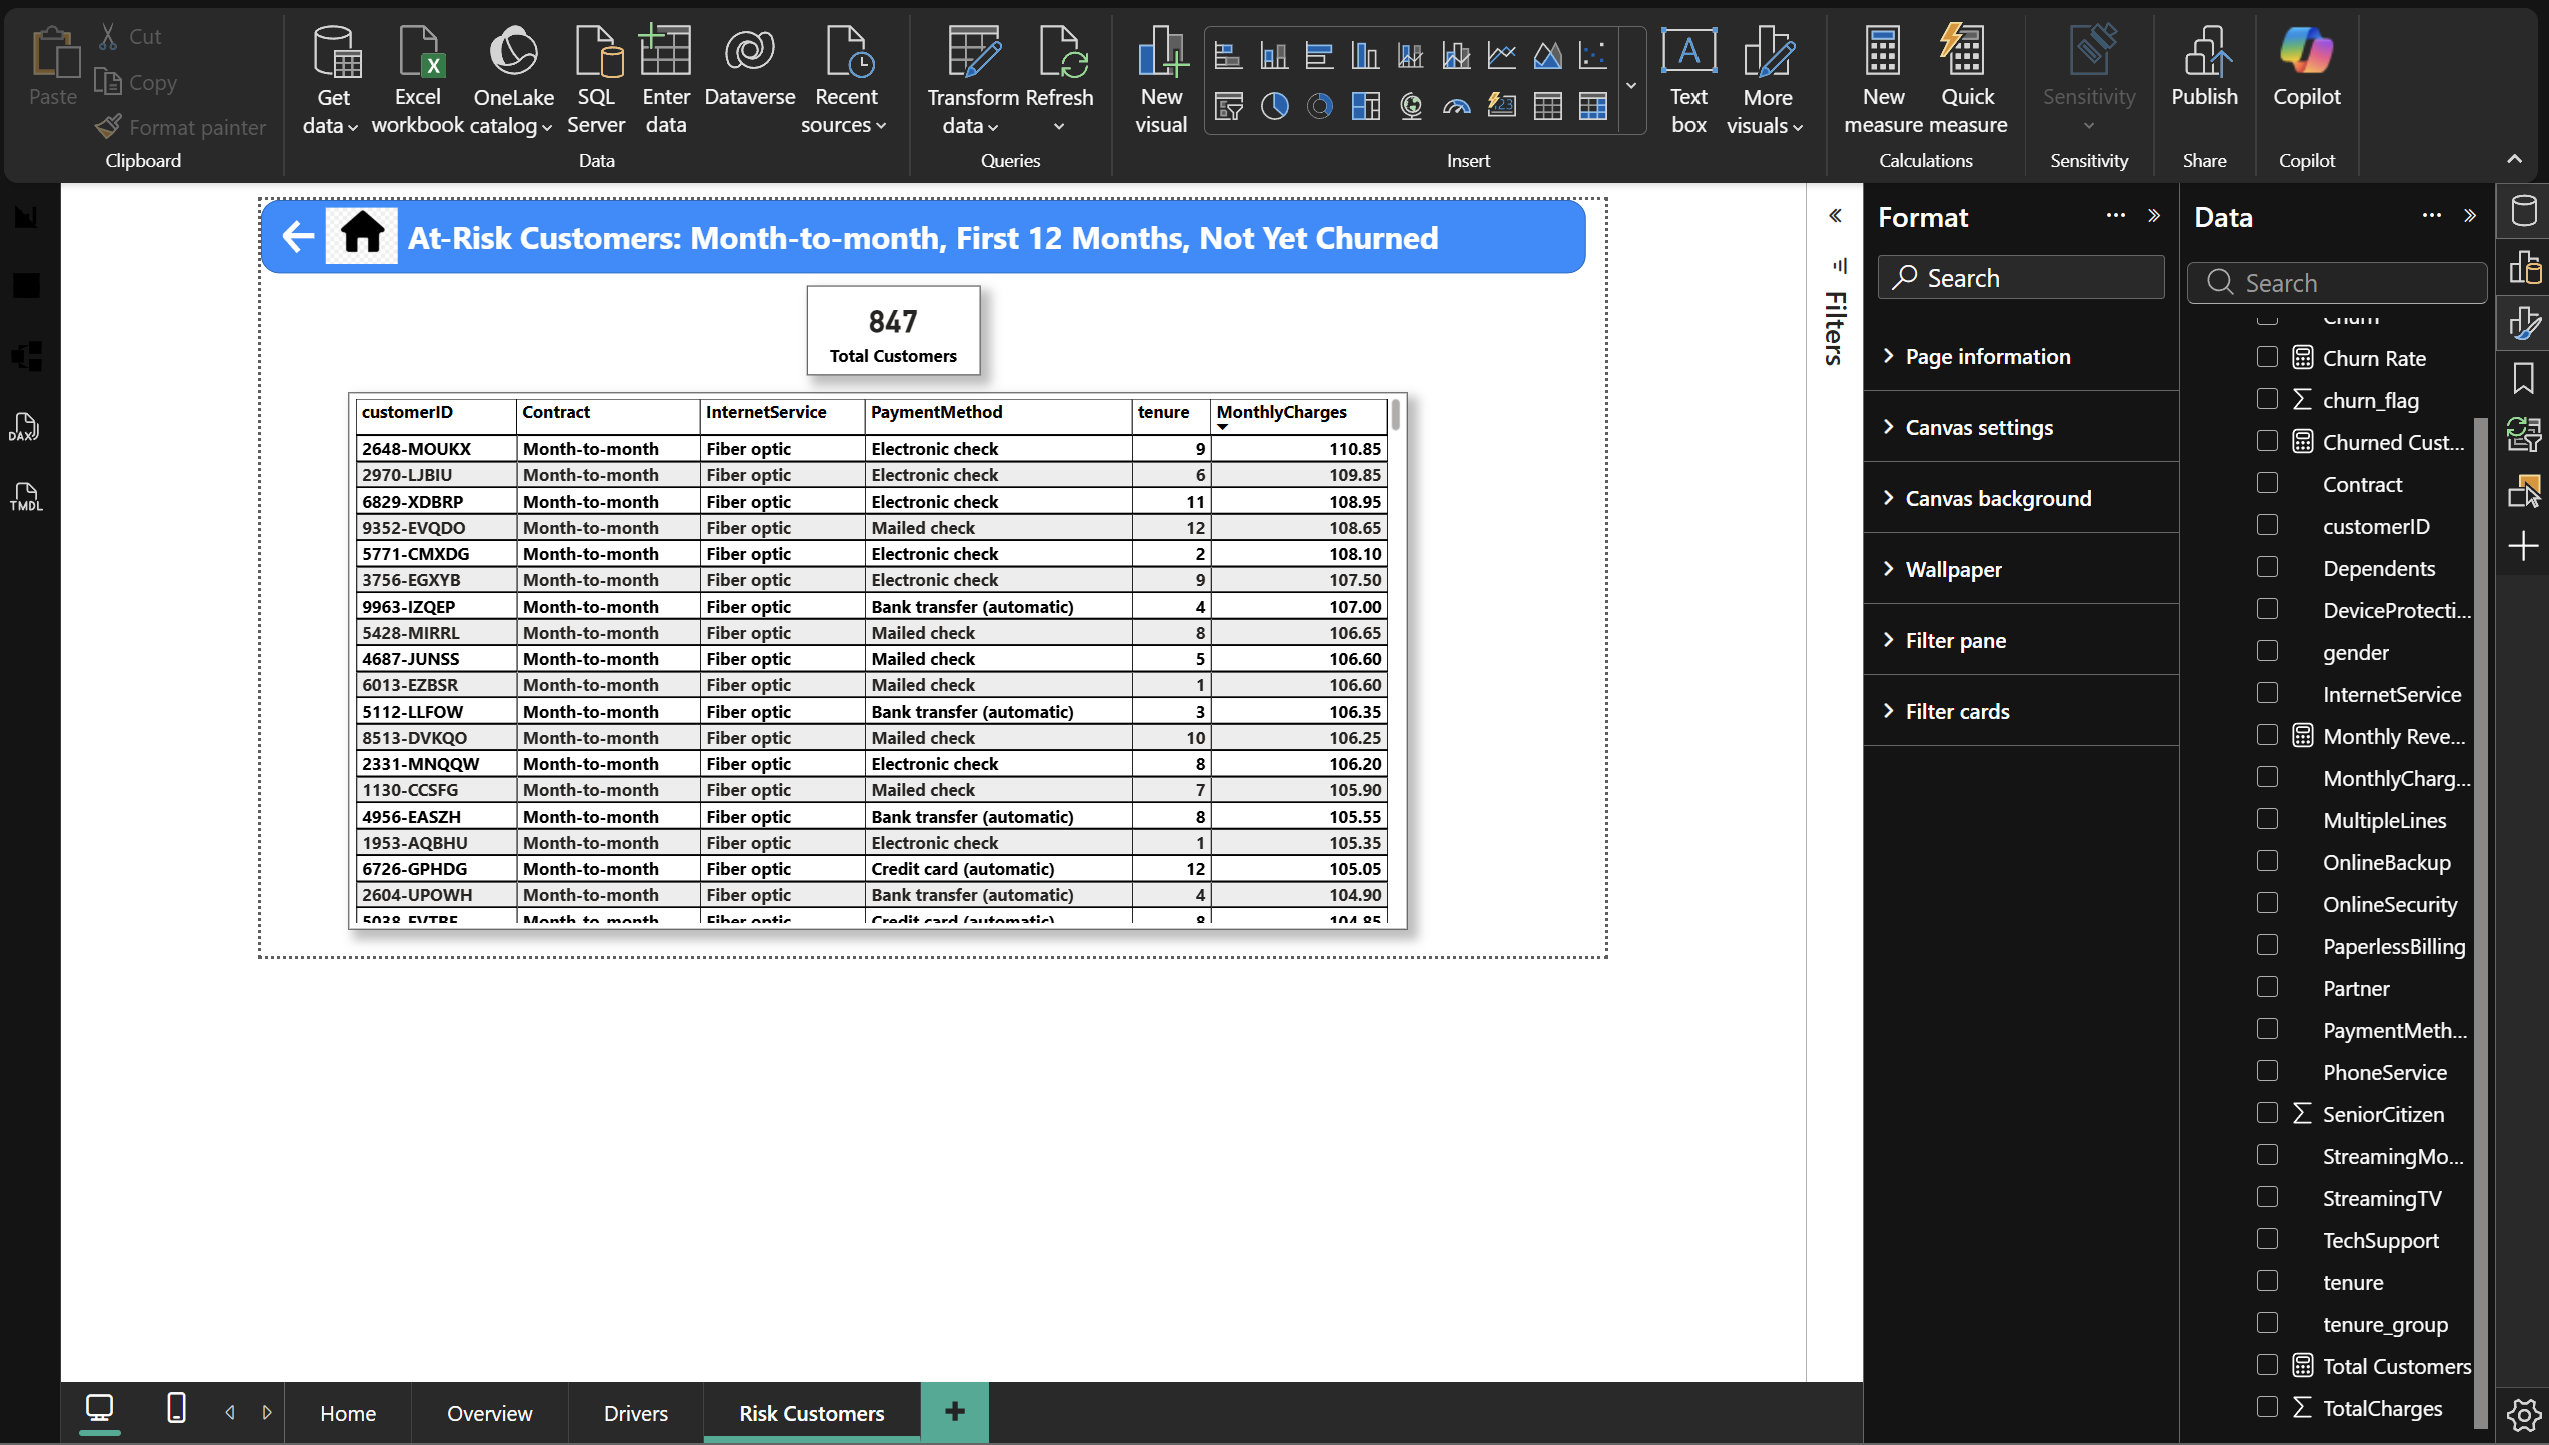

What the dashboard file says about the page in this screenshot:
{"tool":"powerbi","page":{"name":"Risk Customers","canvas":[1280,720],"ordinal":3},"visuals":[{"type":"tableEx","fields":{"Values":["customers_clean.customerID","customers_clean.Contract","customers_clean.InternetService","customers_clean.PaymentMethod","customers_clean.tenure","customers_clean.MonthlyCharges"]},"box":[83.3,183.3,1008.3,511.7],"z":0},{"type":"card","fields":{"Values":["customers_clean.Total Customers"]},"box":[520,81.7,165,85],"z":1000},{"type":"shape","box":[0,0,1261.7,70],"z":2000},{"type":"actionButton","box":[11.7,15,50,40],"z":4000},{"type":"image","box":[61.7,6.7,68.3,55],"z":4001}]}

Visuals, with their boxes on the page's 1280x720 design canvas (x1, y1, x2, y2). These are canvas units, not pixel positions in the 2549x1445 screenshot, which may show the page scaled, cropped or inside an application window:
tableEx - customers_clean.customerID x customers_clean.Contract: <region>83, 183, 1092, 695</region>
card - customers_clean.Total Customers: <region>520, 82, 685, 167</region>
shape: <region>0, 0, 1262, 70</region>
actionButton: <region>12, 15, 62, 55</region>
image: <region>62, 7, 130, 62</region>
